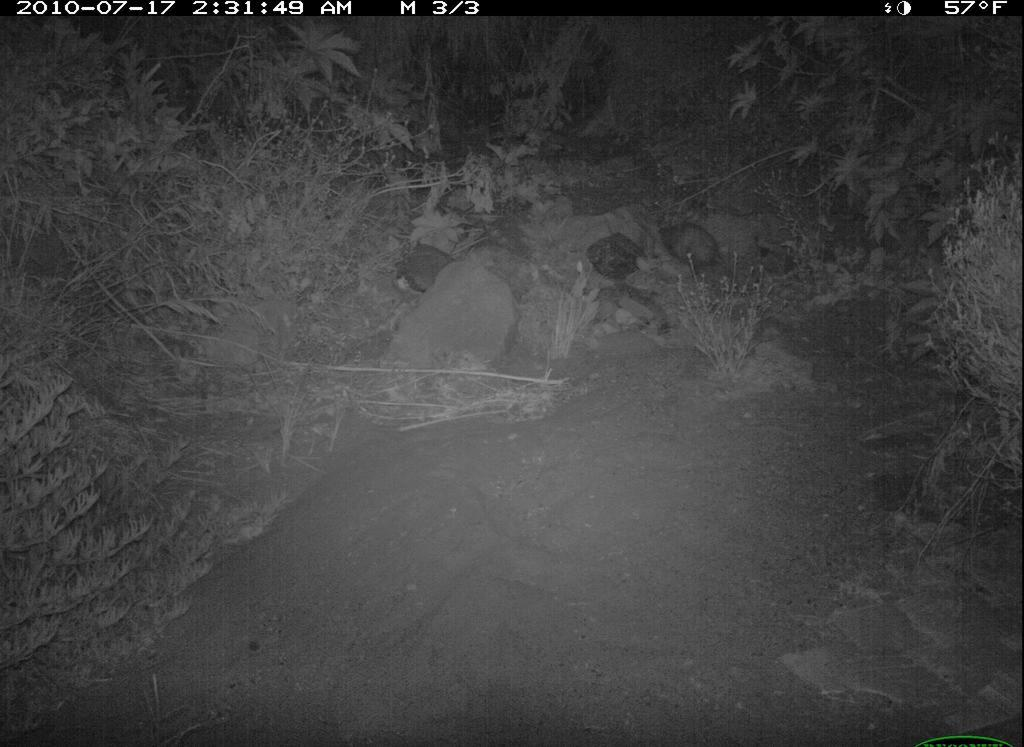opossum: (652, 221, 745, 296)
